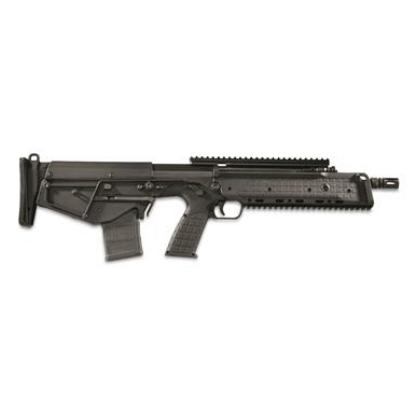gun: (13, 155, 403, 263)
